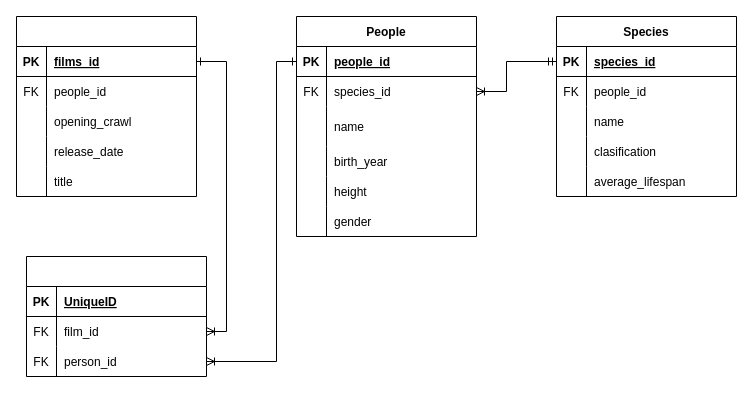
This 753x393 diagram has some shape labels left out. Each missing label, with the box of its shape:
FilmsPeople: (26, 256, 206, 376)
Flims: (16, 16, 196, 196)
